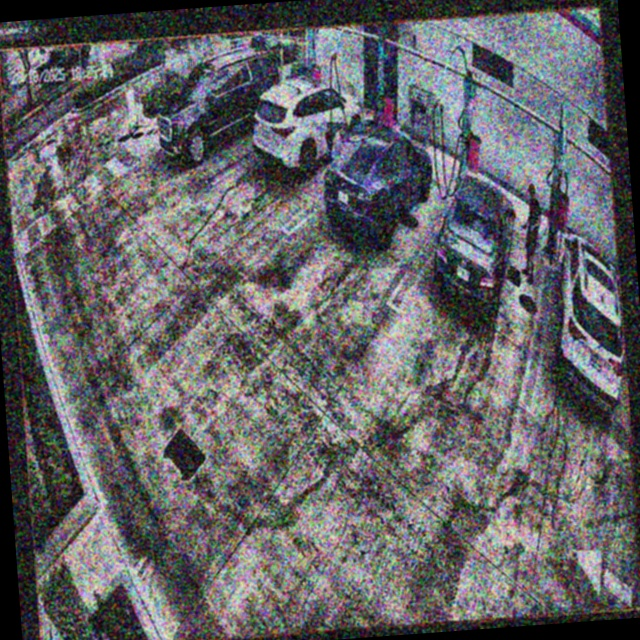Car: (319, 115, 437, 252), (153, 48, 284, 168), (429, 172, 523, 323), (249, 70, 367, 185)
